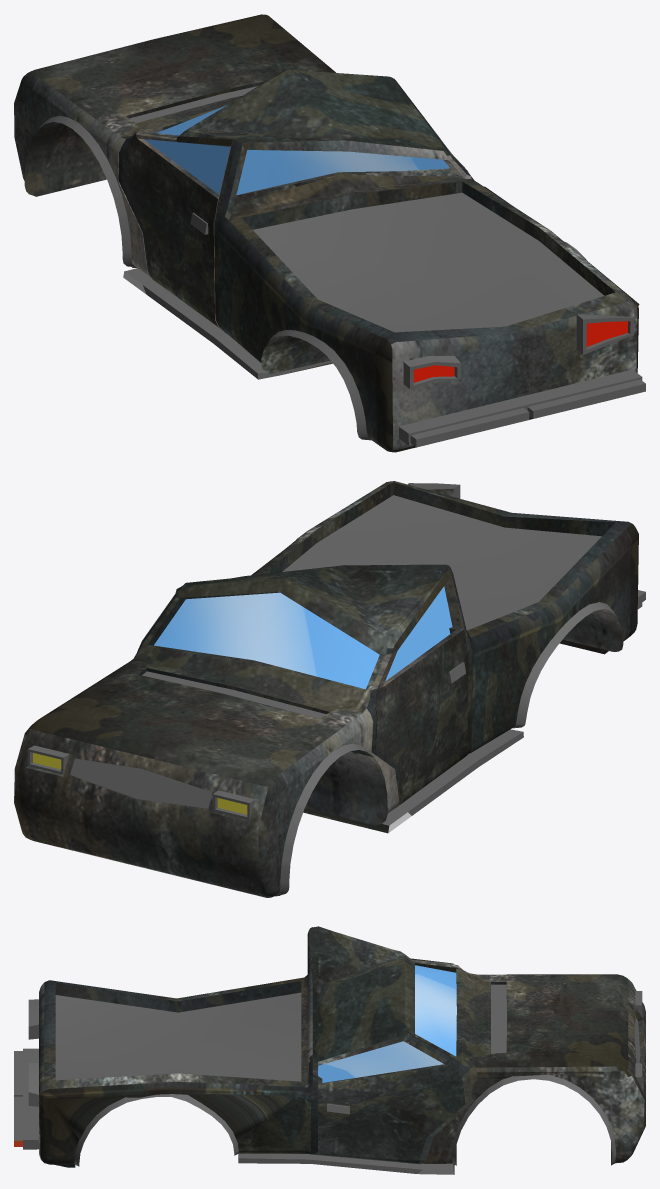
The model's file is Cardeneme2.fbx.
3 views of the same model, one above another, from view 1: azimuth 30°, elevation 25°; view 2: azimuth 150°, elevation 25°; view 3: azimuth 270°, elevation 25° (orthographic). The views are drawn at different scales.
Visible parts, largest first — view 1: Cube.001; view 2: Cube.001; view 3: Cube.001.
Boxes of the visible parts, x1,y1,x2,y2 form: Cube.001: [14, 14, 645, 452]; Cube.001: [14, 481, 645, 897]; Cube.001: [14, 926, 645, 1174].
Size of the model in its own units: 187 by 136 by 475.
